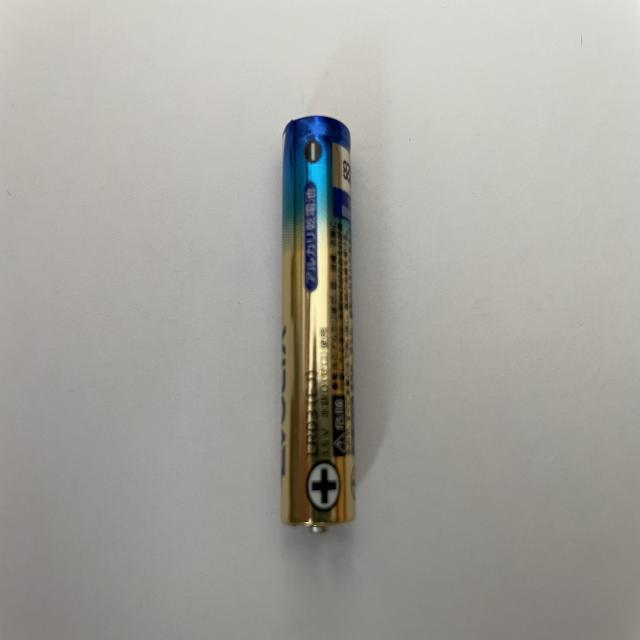hazardous waste: (276, 112, 360, 540)
